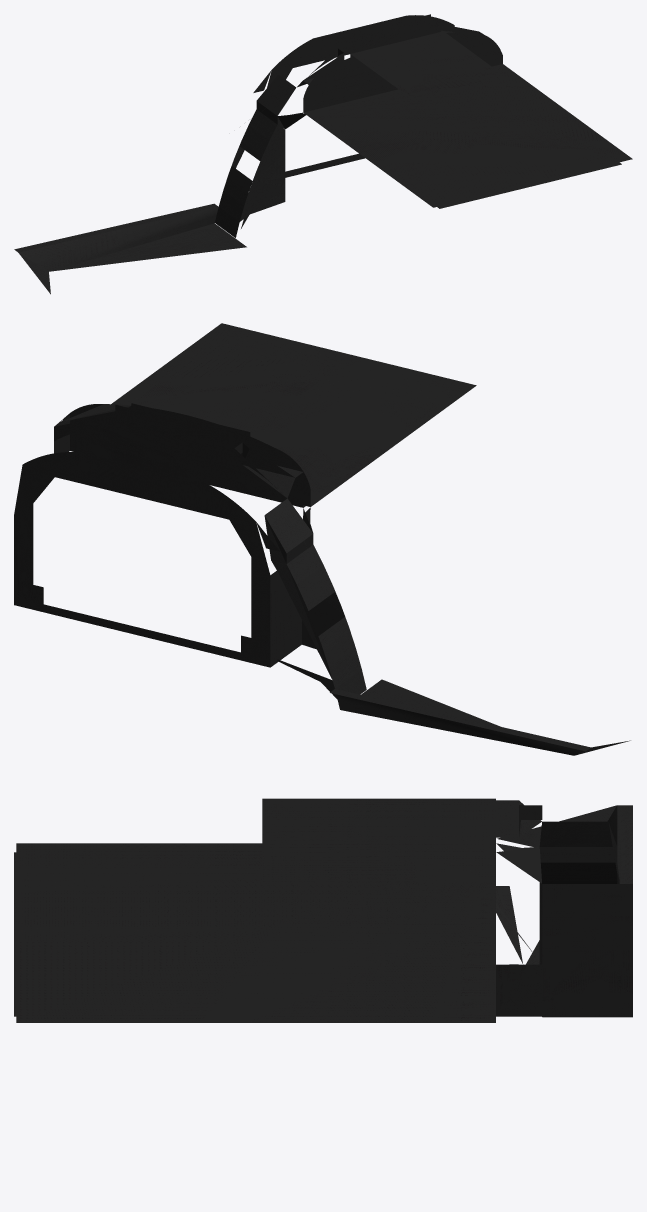
The model's file is original-108.obj.
3 renders of one model, top to bottom at view 1: azimuth 30°, elevation 25°; view 2: azimuth 150°, elevation 25°; view 3: azimuth 270°, elevation 25°, orthographic. The views are drawn at different scales.
Visible parts, largest first — view 1: mesh46/mesh46-geometry/material_0/component_7#mesh46-geometry; view 2: mesh46/mesh46-geometry/material_0/component_7#mesh46-geometry; view 3: mesh46/mesh46-geometry/material_0/component_7#mesh46-geometry.
Boxes of the visible parts, x1,y1,x2,y2 form: mesh46/mesh46-geometry/material_0/component_7#mesh46-geometry: (14,14,632,294); mesh46/mesh46-geometry/material_0/component_7#mesh46-geometry: (14,323,630,755); mesh46/mesh46-geometry/material_0/component_7#mesh46-geometry: (14,798,632,1022).
Size of the model in its own units: 1.07 by 0.4 by 0.6907.
Materials: 2 (1 with a texture image).
